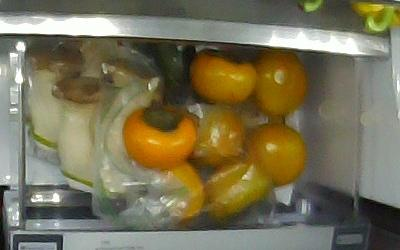persimmon: (123, 106, 197, 169), (245, 123, 308, 187), (189, 49, 257, 106), (255, 54, 309, 115)
persimmon_vinyl: (203, 156, 270, 220), (186, 103, 245, 166), (146, 161, 204, 225)
